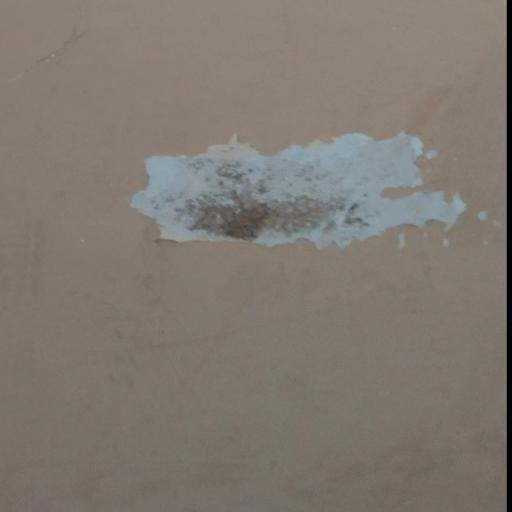peeling: (109, 124, 505, 255)
